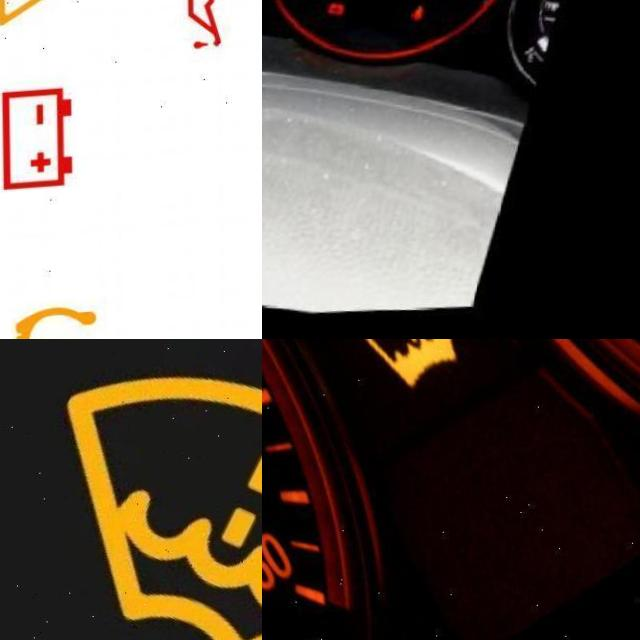Washer Fluid: (65, 339, 262, 640), (357, 339, 456, 397)
